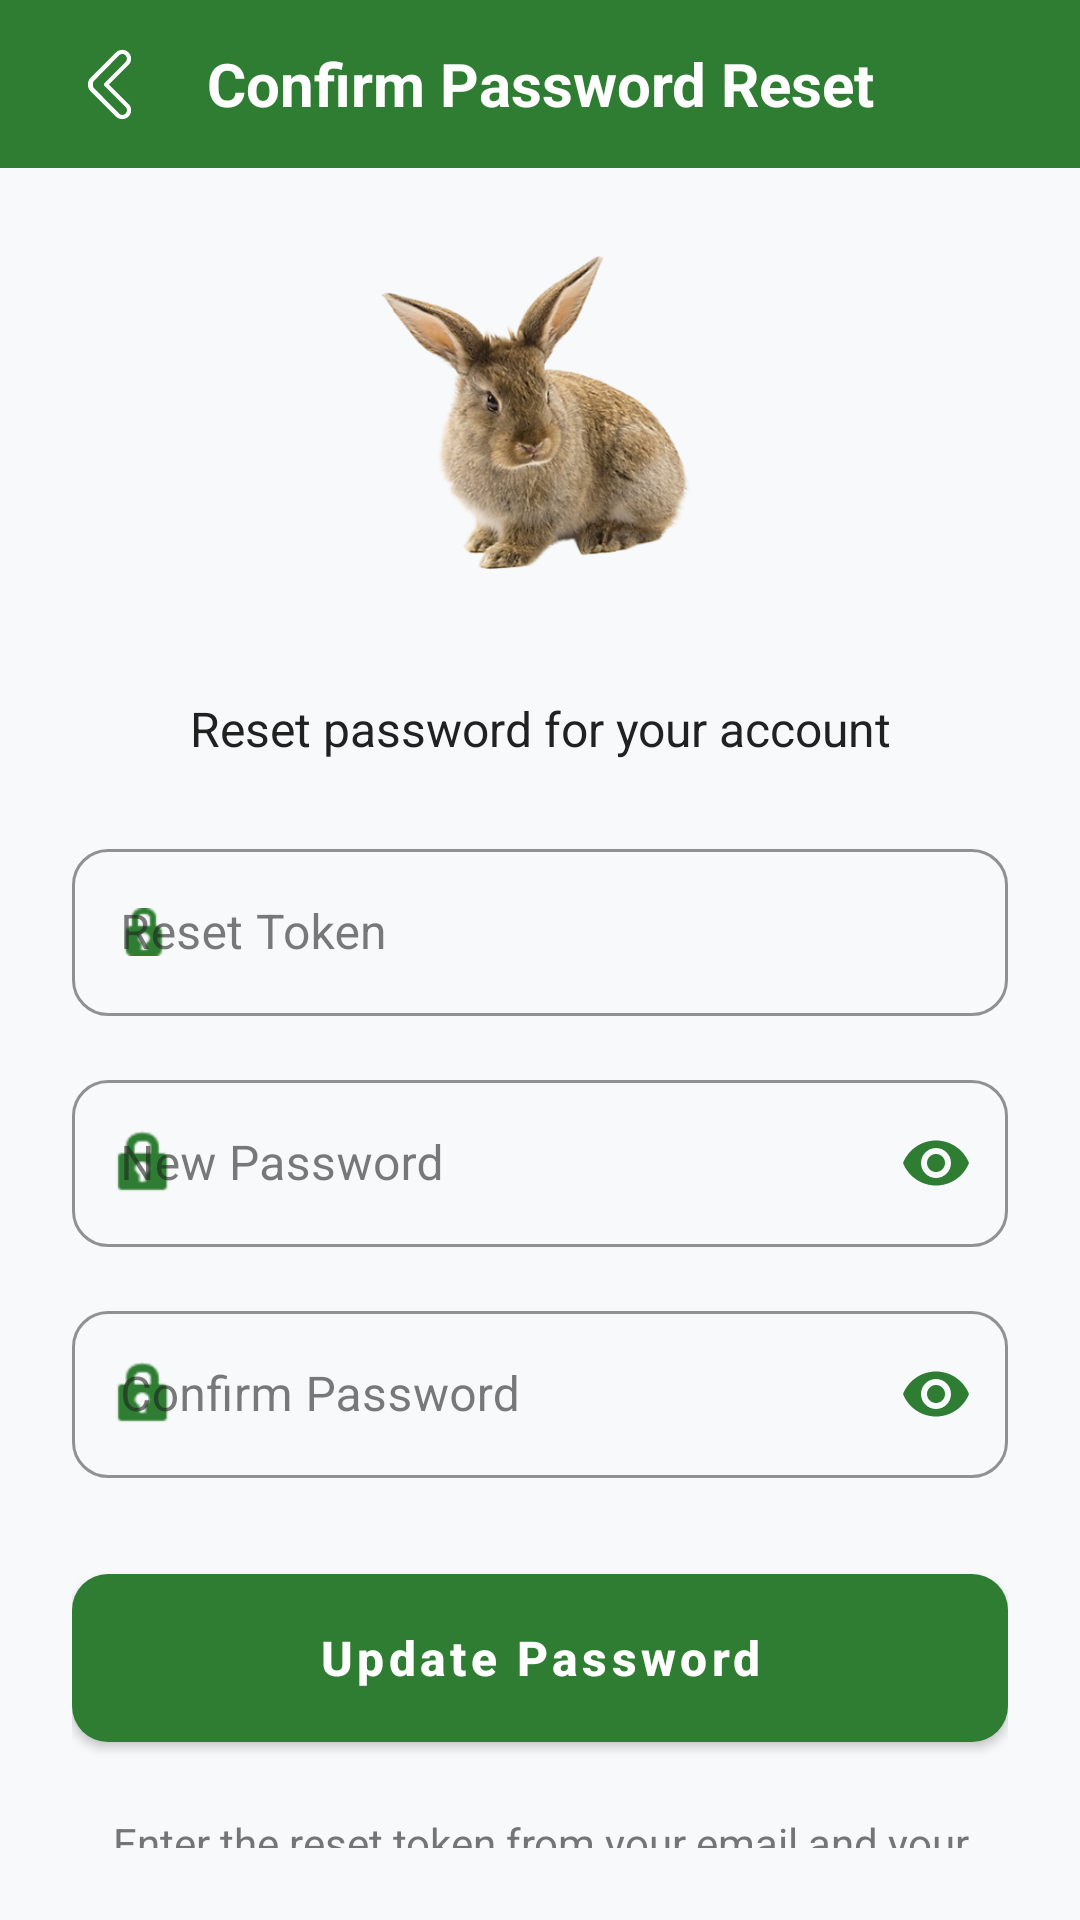

Icon bounding boxes for this 1080x1920 phone screenshot, format (x1=x1, y1=y1, x2=x2, y2=y2):
back arrow: (x1=88, y1=49, x2=131, y2=119)
